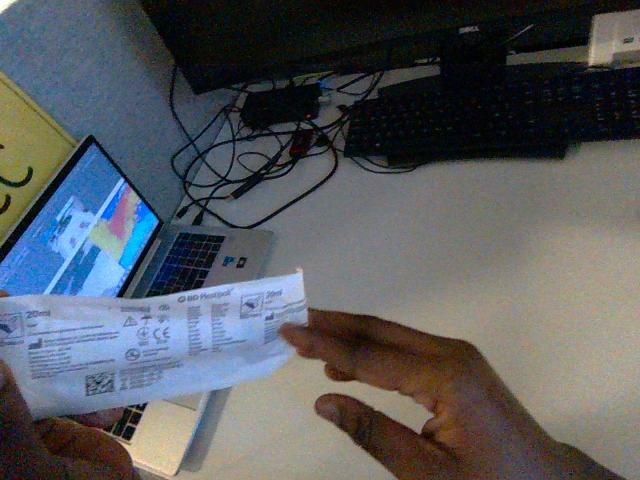syringe: (0, 271, 306, 418)
